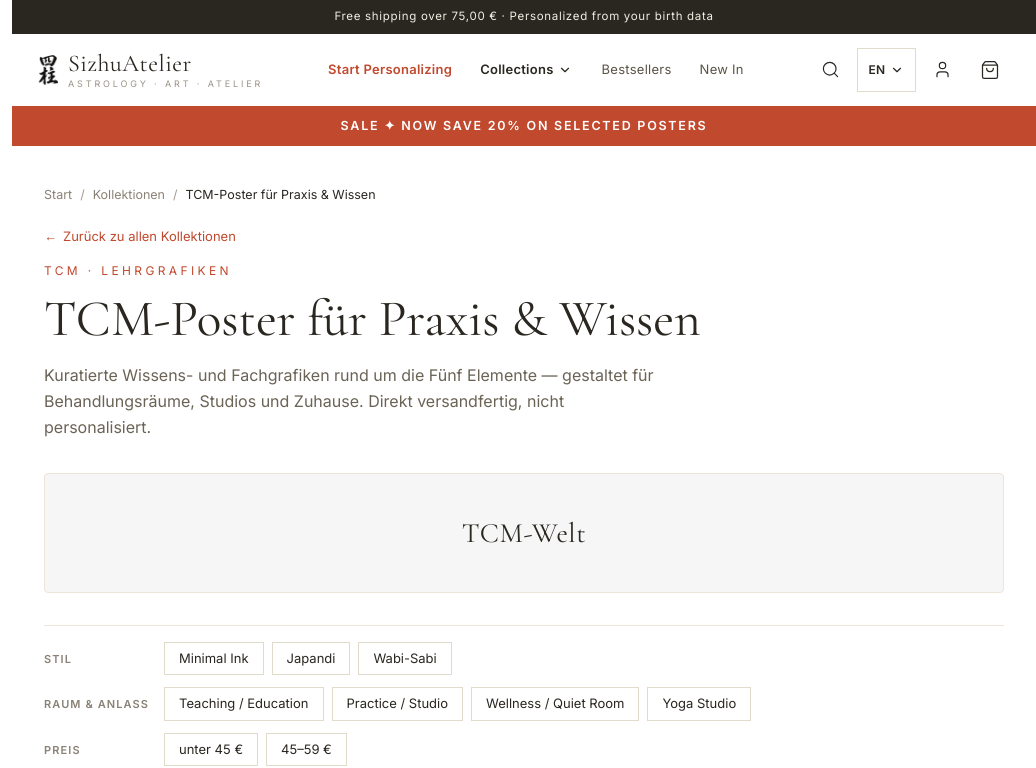
Test: M17 — a chip click writes the URL (shareable / back-navigable) › selecting a style chip adds ?style=… to the URL and narrows the grid
Step 1. Click the button "Minimal Ink" → (214, 658), box [164,642,264,675]
(page scrolled)
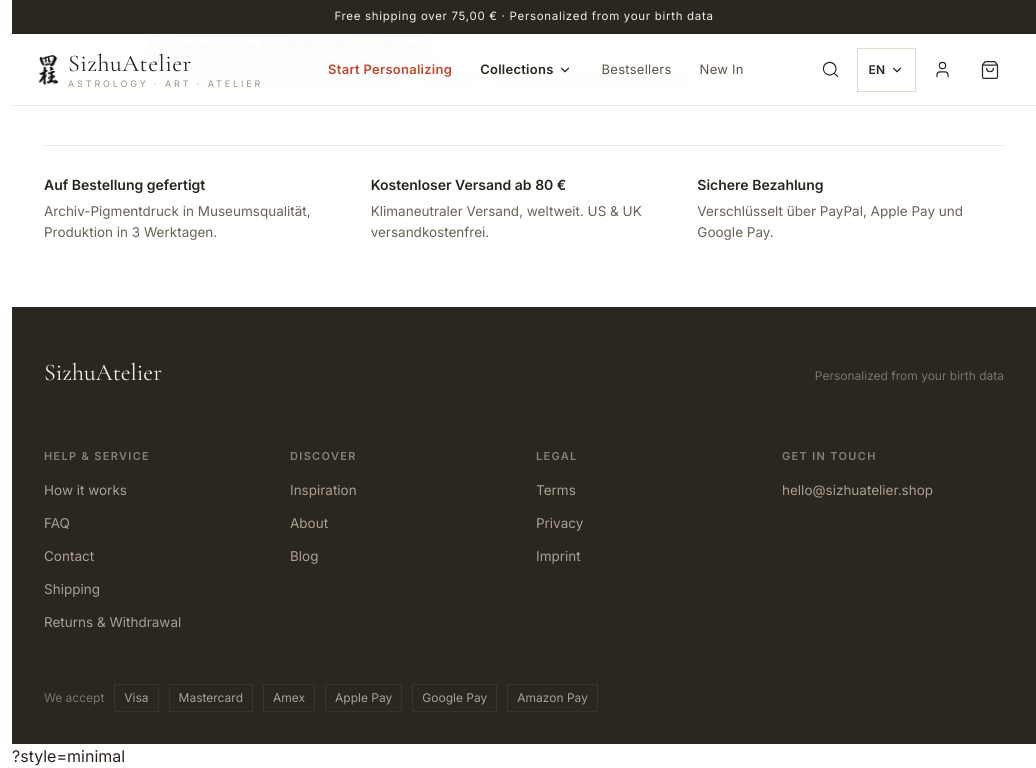
Expected: the text with test id "loc-search" shows "style=minimal", [12,746,125,766]
